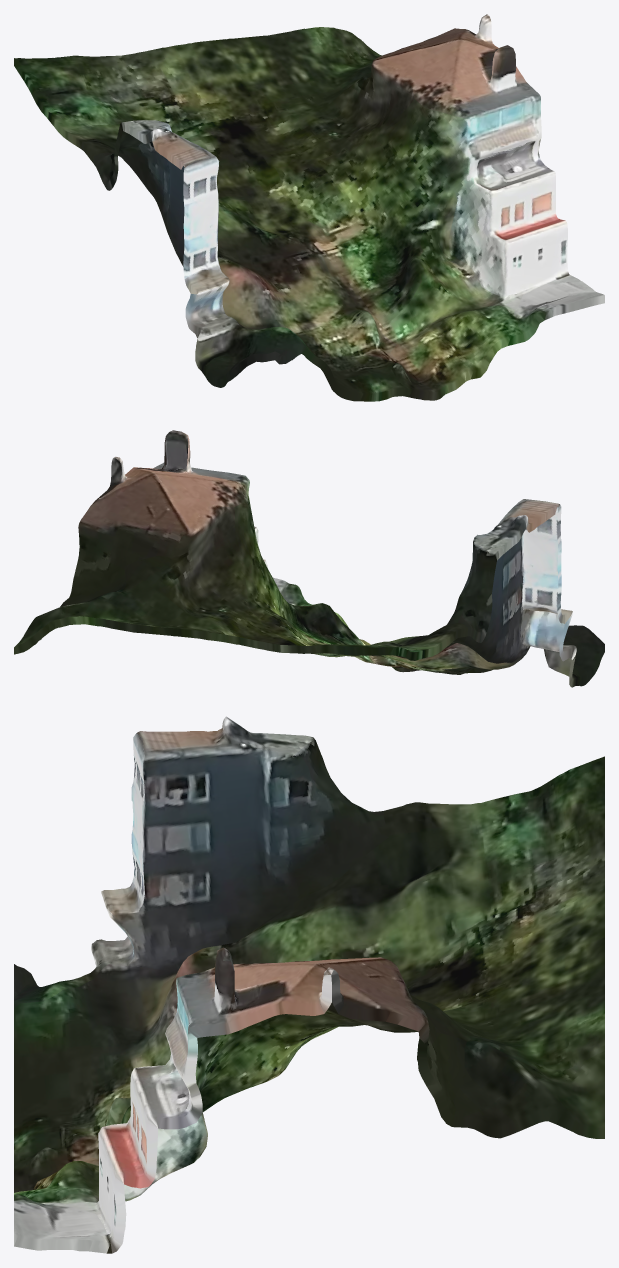
Rendered from z20-167756-405193-h0-yup-uvflip-v3-world.glb.
3 renders of one model, top to bottom at view 1: azimuth 30°, elevation 25°; view 2: azimuth 150°, elevation 25°; view 3: azimuth 270°, elevation 25°, orthographic. The views are drawn at different scales.
Bounding box in the file's own units: 30.16 × 20.32 × 30.32.
1 material, 1 textured.
